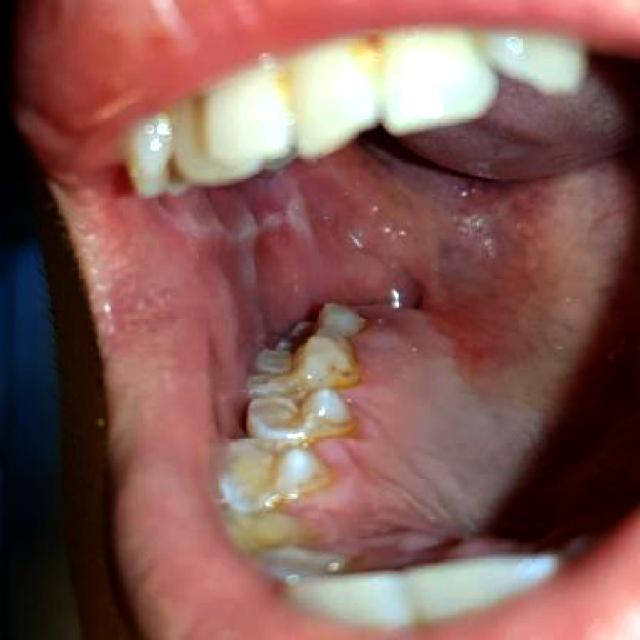Plaque: (332, 388, 375, 455), (336, 335, 377, 399)
